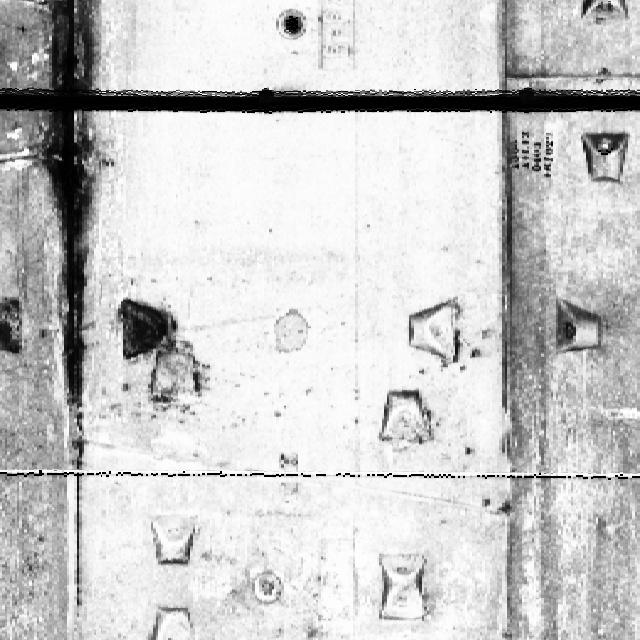leakage: (34, 0, 106, 467)
